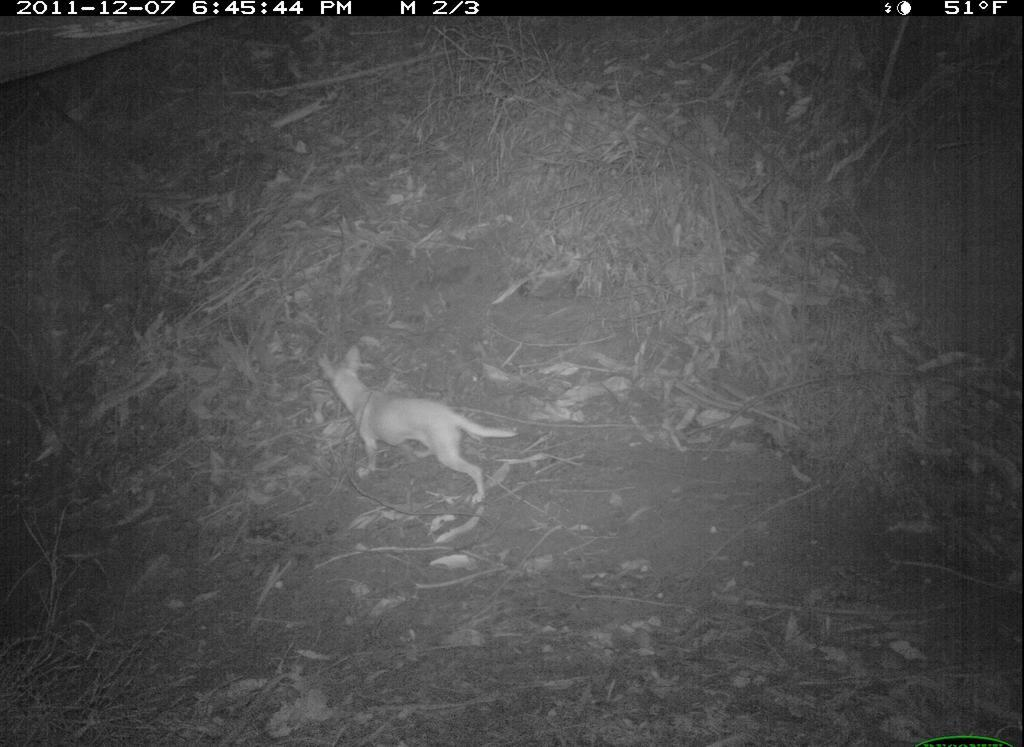dog: (317, 336, 521, 511)
